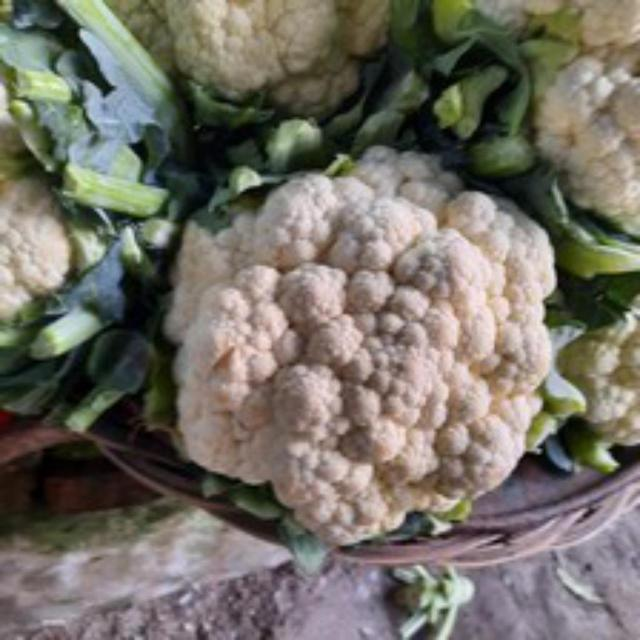cauliflower: (170, 152, 576, 528)
